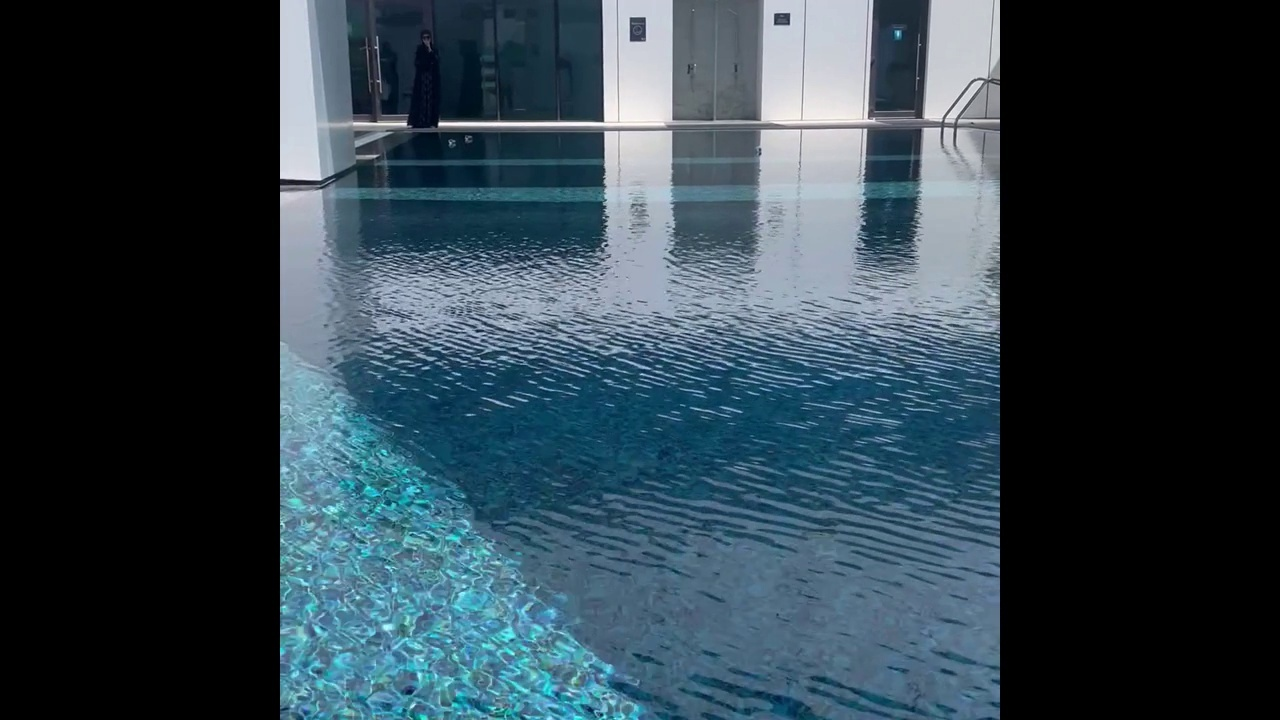debris: (446, 137, 458, 150), (463, 133, 475, 144), (753, 144, 762, 155)
